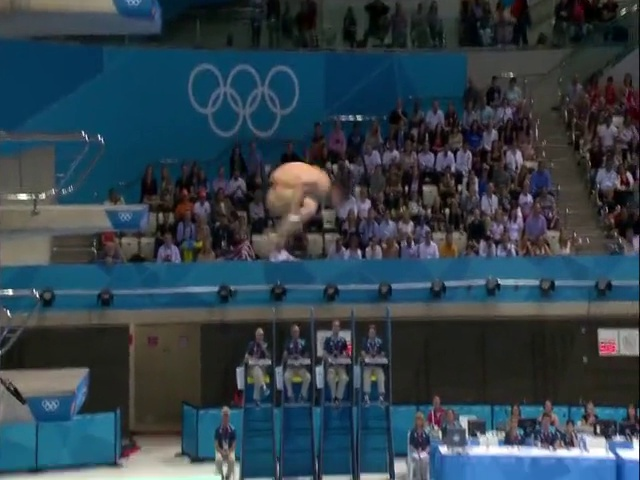diver: (251, 160, 350, 262)
